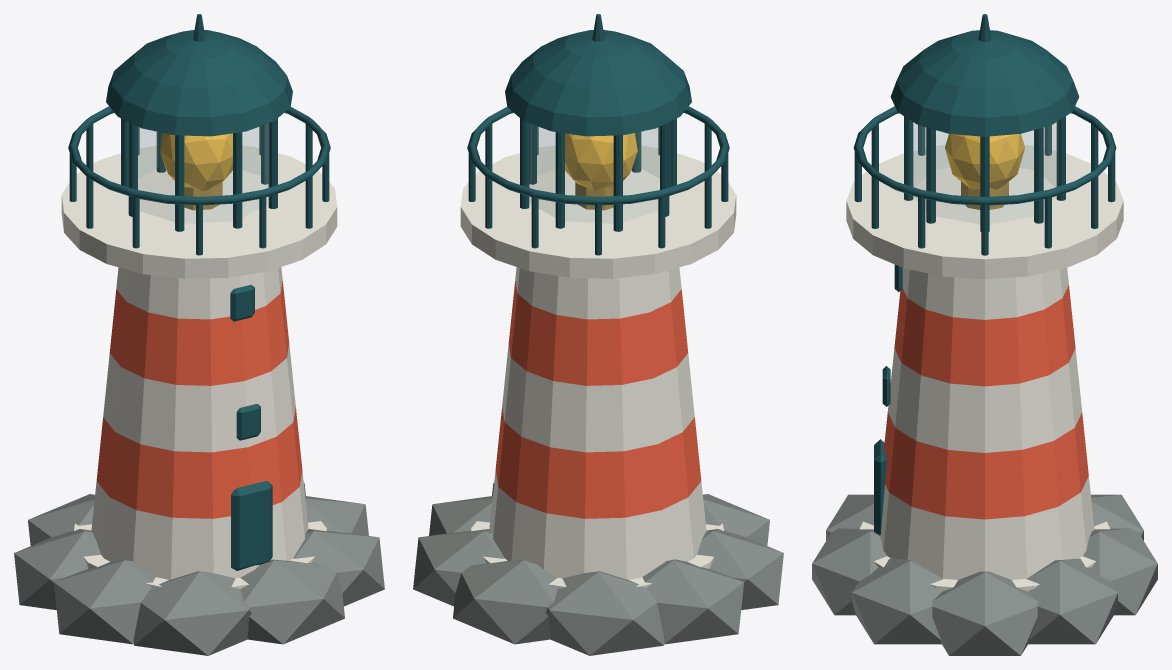
File: lighthouse.glb
3 renders of one model, left to right at view 1: azimuth 30°, elevation 25°; view 2: azimuth 150°, elevation 25°; view 3: azimuth 270°, elevation 25°, orthographic.
Parts seen in each view (by area): view 1: Balcony floor, Dark teal dome roof, Coral stripe, White tower course.001, Coral stripe.001, White tower course, Rocky lighthouse base.006, Rocky lighthouse base.007, Rocky lighthouse base.005, White tower course.002, Rocky lighthouse base.004, Rocky lighthouse base.008 (+15 smaller); view 2: Balcony floor, Dark teal dome roof, Coral stripe, White tower course.001, White tower course, Coral stripe.001, Rocky lighthouse base.003, Rocky lighthouse base.002, Rocky lighthouse base.004, White tower course.002, Rocky lighthouse base.005, Rocky lighthouse base.001 (+12 smaller); view 3: Balcony floor, Dark teal dome roof, Coral stripe, White tower course.001, White tower course, Coral stripe.001, Rocky lighthouse base, White tower course.002, Rocky lighthouse base.001, Rocky lighthouse base.008, Rocky lighthouse base.002, Rocky lighthouse base.007 (+16 smaller).
Boxes of the visible parts, box(x1,y1,x2,y2) form: Balcony floor: box(61, 145, 337, 278); Dark teal dome roof: box(106, 30, 292, 136); Coral stripe: box(96, 406, 302, 518); White tower course.001: box(103, 344, 295, 452); Coral stripe.001: box(109, 281, 289, 385); White tower course: box(91, 471, 308, 579); Rocky lighthouse base.006: box(133, 571, 251, 655); Rocky lighthouse base.007: box(240, 559, 344, 644); Rocky lighthouse base.005: box(54, 559, 155, 644); White tower course.002: box(116, 267, 282, 319); Rocky lighthouse base.004: box(14, 529, 100, 609); Rocky lighthouse base.008: box(293, 529, 384, 606); Balcony floor: box(460, 145, 736, 278); Dark teal dome roof: box(505, 30, 691, 136); Coral stripe: box(495, 406, 701, 518); White tower course.001: box(502, 344, 694, 452); White tower course: box(489, 471, 706, 579); Coral stripe.001: box(508, 281, 688, 385); Rocky lighthouse base.003: box(546, 571, 664, 655); Rocky lighthouse base.002: box(453, 559, 557, 644); Rocky lighthouse base.004: box(642, 559, 743, 644); White tower course.002: box(515, 267, 681, 319); Rocky lighthouse base.005: box(697, 529, 783, 609); Rocky lighthouse base.001: box(413, 529, 504, 606); Balcony floor: box(846, 145, 1123, 279); Dark teal dome roof: box(890, 30, 1079, 136); Coral stripe: box(884, 412, 1088, 519); White tower course.001: box(887, 348, 1082, 452); White tower course: box(880, 476, 1094, 579); Coral stripe.001: box(894, 285, 1075, 386); Rocky lighthouse base: box(932, 571, 1037, 655); White tower course.002: box(902, 268, 1068, 319); Rocky lighthouse base.001: box(1027, 558, 1117, 644); Rocky lighthouse base.008: box(852, 558, 942, 644); Rocky lighthouse base.002: box(1083, 528, 1157, 615); Rocky lighthouse base.007: box(812, 528, 886, 615).
Bounding box in the file's own units: 1.88 × 3.23 × 1.72.
